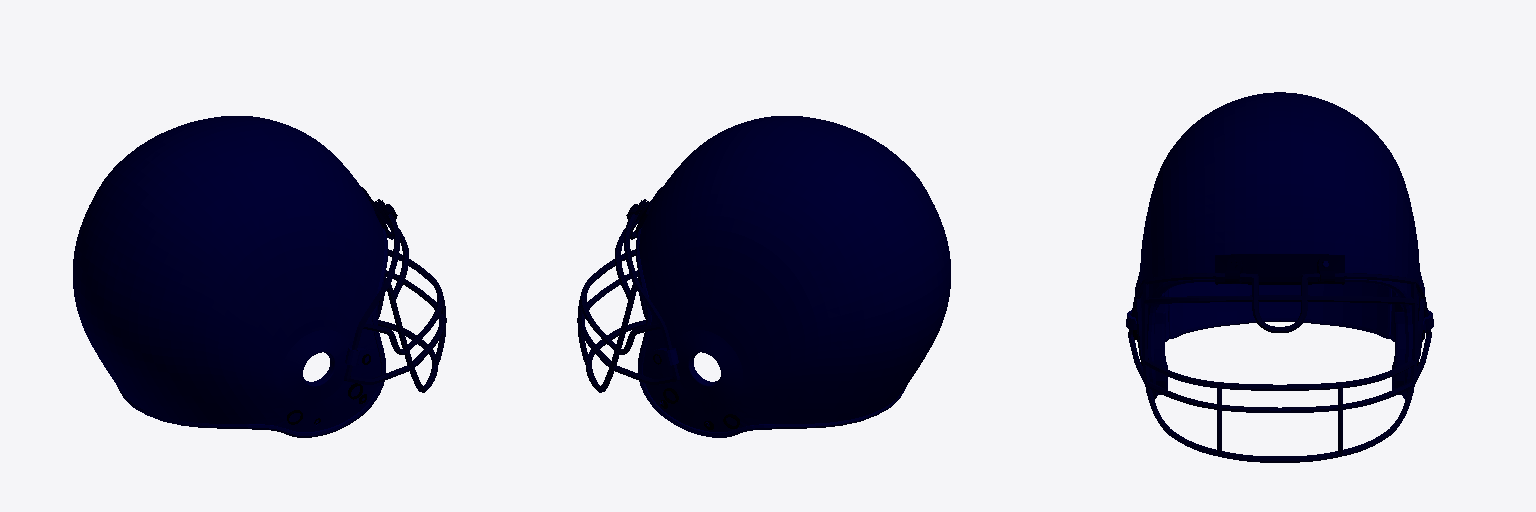
File: helmet.obj
The picture shows the model from 3 angles: view 1: azimuth 30°, elevation 25°; view 2: azimuth 150°, elevation 25°; view 3: azimuth 270°, elevation 25°; orthographic projection.
Parts seen in each view (by area): view 1: football_helmet, helmet_spokes_football_helmet.001; view 2: football_helmet, helmet_spokes_football_helmet.001; view 3: football_helmet, helmet_spokes_football_helmet.001, helmet_topgaurd_football_helmet.004.
Boxes of the visible parts, <box> form: football_helmet: <box>73,116,387,437</box>; helmet_spokes_football_helmet.001: <box>344,203,446,392</box>; football_helmet: <box>636,116,950,437</box>; helmet_spokes_football_helmet.001: <box>577,203,679,392</box>; football_helmet: <box>1126,92,1433,399</box>; helmet_spokes_football_helmet.001: <box>1128,273,1431,462</box>; helmet_topgaurd_football_helmet.004: <box>1215,254,1344,284</box>.
Bounding box in the file's own units: 6.33 × 4.88 × 5.1.